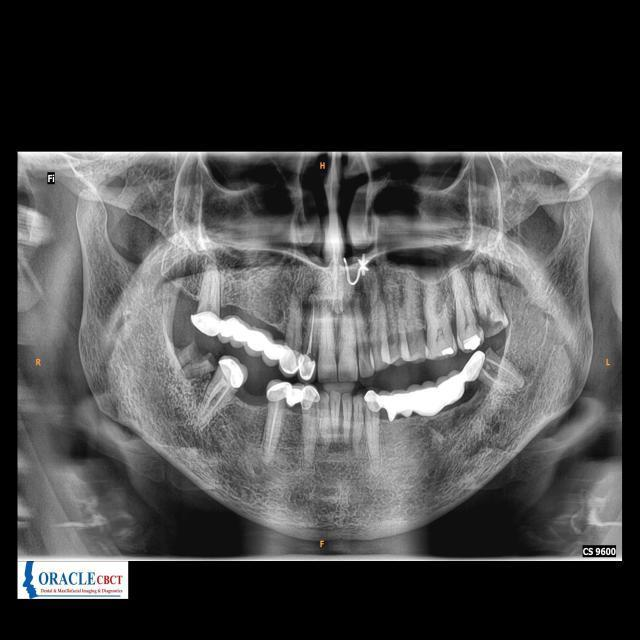dentin-curugu: (480, 307, 506, 336)
dolgu: (461, 332, 485, 354), (440, 343, 459, 362)
kanal-tedavisi: (216, 352, 251, 394), (182, 340, 218, 372), (485, 356, 519, 389), (262, 400, 280, 450), (201, 383, 230, 414), (306, 302, 316, 353)
kaplama: (457, 347, 490, 385), (188, 310, 222, 340), (264, 378, 291, 401), (280, 345, 300, 373), (298, 352, 314, 378), (301, 385, 318, 409)
kopru: (379, 364, 482, 426), (219, 313, 291, 369), (282, 382, 307, 412)
